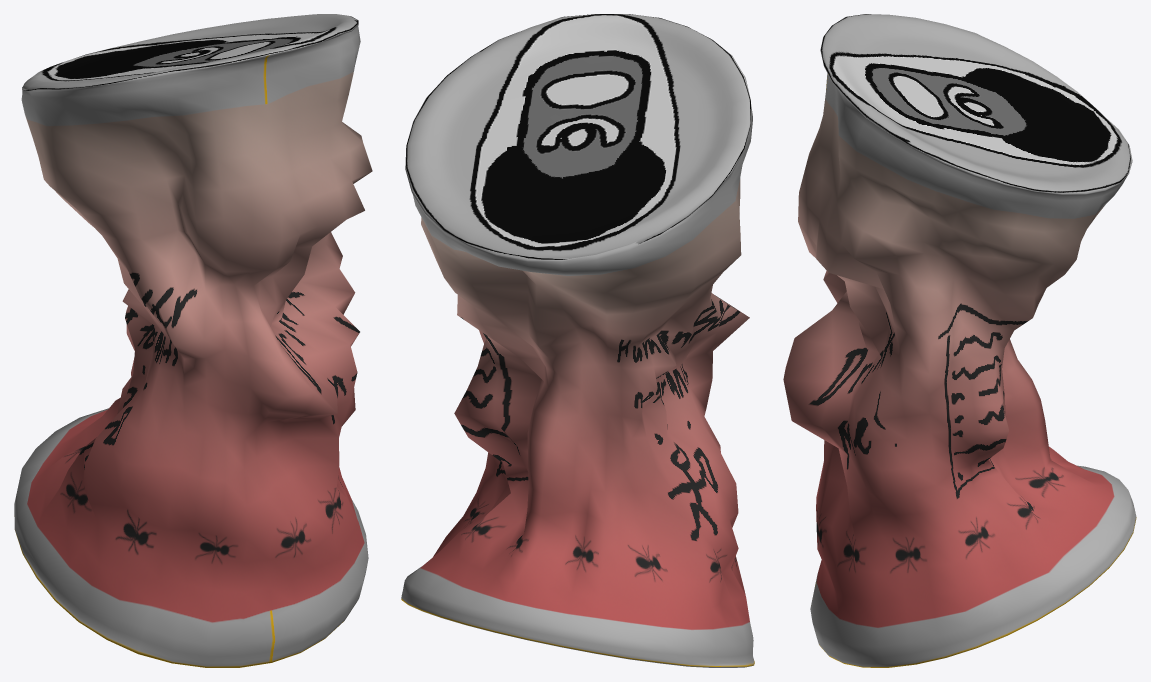
The model's file is CrushedCan.fbx.
3 views of the same model, side by side, from view 1: azimuth 30°, elevation 25°; view 2: azimuth 150°, elevation 25°; view 3: azimuth 270°, elevation 25° (orthographic). The views are drawn at different scales.
Visible parts, largest first — view 1: Cylinder; view 2: Cylinder; view 3: Cylinder.
Boxes of the visible parts, x1,y1,x2,y2 form: Cylinder: [14, 14, 372, 667]; Cylinder: [401, 14, 754, 667]; Cylinder: [783, 14, 1136, 667].
Size of the model in its own units: 307 by 580 by 317.
